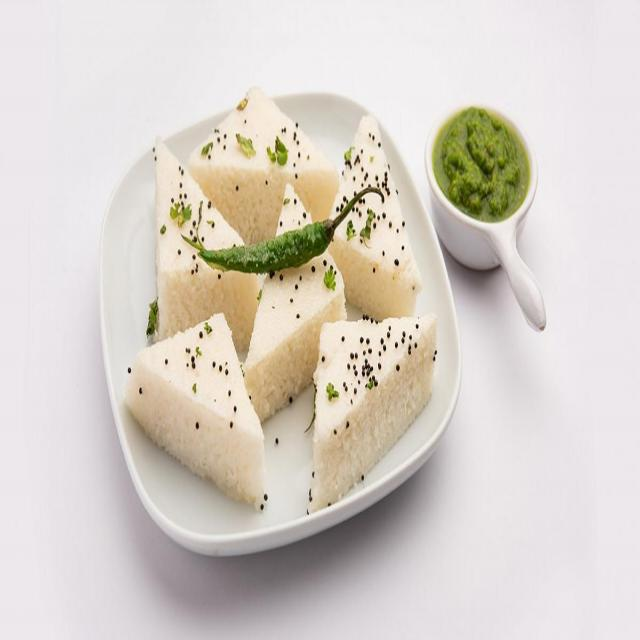dhokla: (144, 97, 434, 474)
